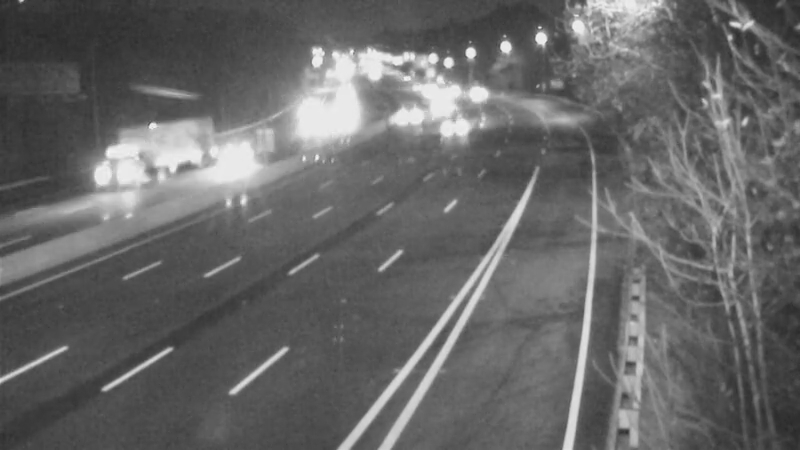vehicle: (77, 131, 157, 211), (200, 115, 280, 195), (448, 65, 498, 115), (412, 81, 462, 131), (374, 95, 424, 145), (435, 102, 485, 152)
